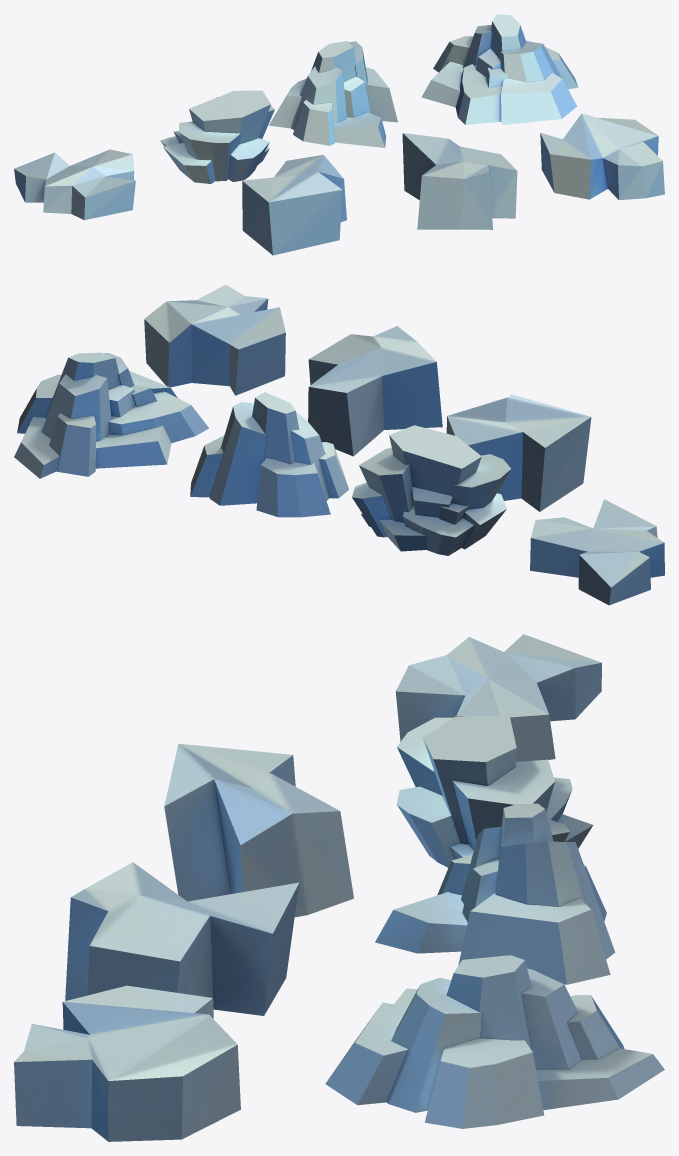
The model's file is icerox.FBX.
3 renders of one model, top to bottom at view 1: azimuth 30°, elevation 25°; view 2: azimuth 150°, elevation 25°; view 3: azimuth 270°, elevation 25°, orthographic. The views are drawn at different scales.
Parts seen in each view (by area): view 1: Object001, Object006, Object002, Object005, Object007, Object003, Object004; view 2: Object001, Object003, Object002, Object006, Object005, Object007, Object004; view 3: Object001, Object005, Object006, Object002, Object007, Object003, Object004.
Part boxes in pixels (box(x1,y1,x2,y2)): Object001: box(421, 14, 578, 124); Object006: box(402, 133, 517, 229); Object002: box(269, 41, 397, 147); Object005: box(540, 113, 664, 200); Object007: box(242, 155, 346, 255); Object003: box(160, 90, 274, 183); Object004: box(14, 149, 135, 220); Object001: box(14, 352, 208, 478); Object003: box(352, 425, 511, 555); Object002: box(190, 392, 348, 517); Object006: box(308, 326, 442, 456); Object005: box(144, 284, 285, 395); Object007: box(446, 394, 591, 511); Object004: box(530, 499, 664, 605); Object001: box(325, 955, 664, 1128); Object005: box(14, 985, 240, 1141); Object006: box(65, 862, 299, 1015); Object002: box(375, 803, 615, 984); Object007: box(164, 743, 353, 917); Object003: box(396, 716, 593, 867); Object004: box(395, 634, 601, 761).
Size of the model in its own units: 1223 by 221 by 729.
